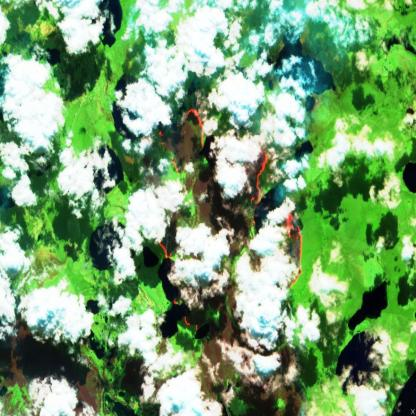fire: (147, 97, 305, 334)
